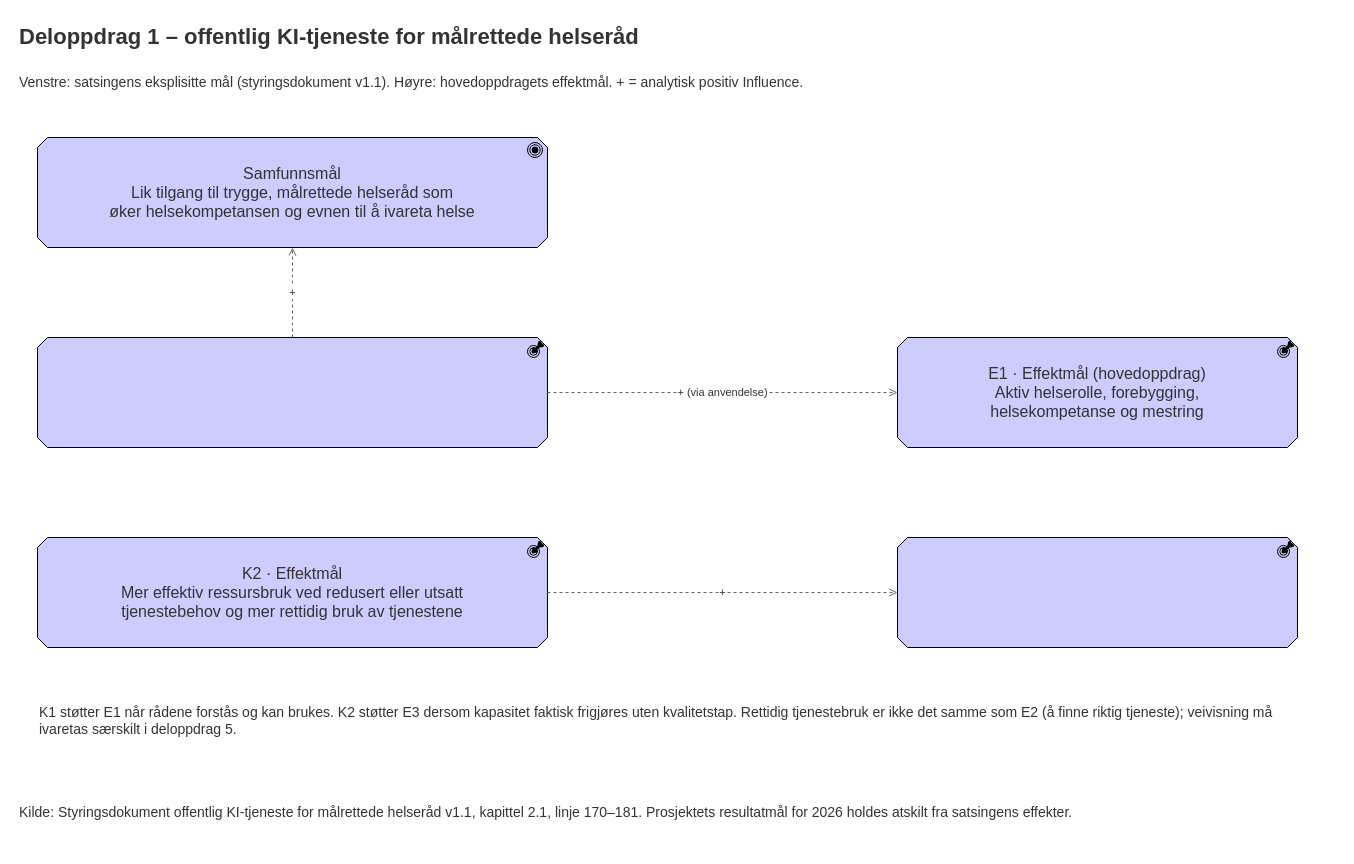
The diagram is 1354 pixels wide and 864 high, and some of its shapes have lost their labels. The centre of each missing label's shape, as x and y in pixels:
"E3 · Effektmål (hovedoppdrag) Helsehjelp til flere med god kvalitet" goes at pixel 1097 592.
"K1 · Effektmål Trygge helseråd basert på evidensbasert kunnskap" goes at pixel 292 392.
